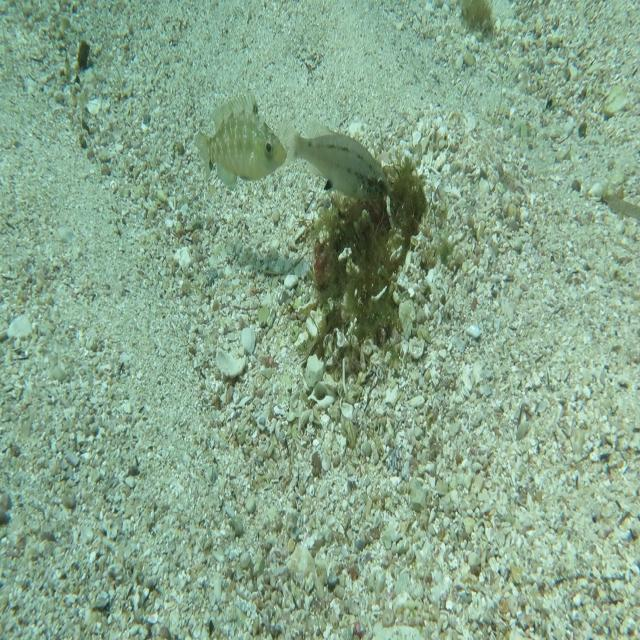GB: (194, 90, 288, 192)
core_nest: (365, 188, 411, 234)
female: (278, 115, 392, 202)
nest: (303, 151, 434, 358)
